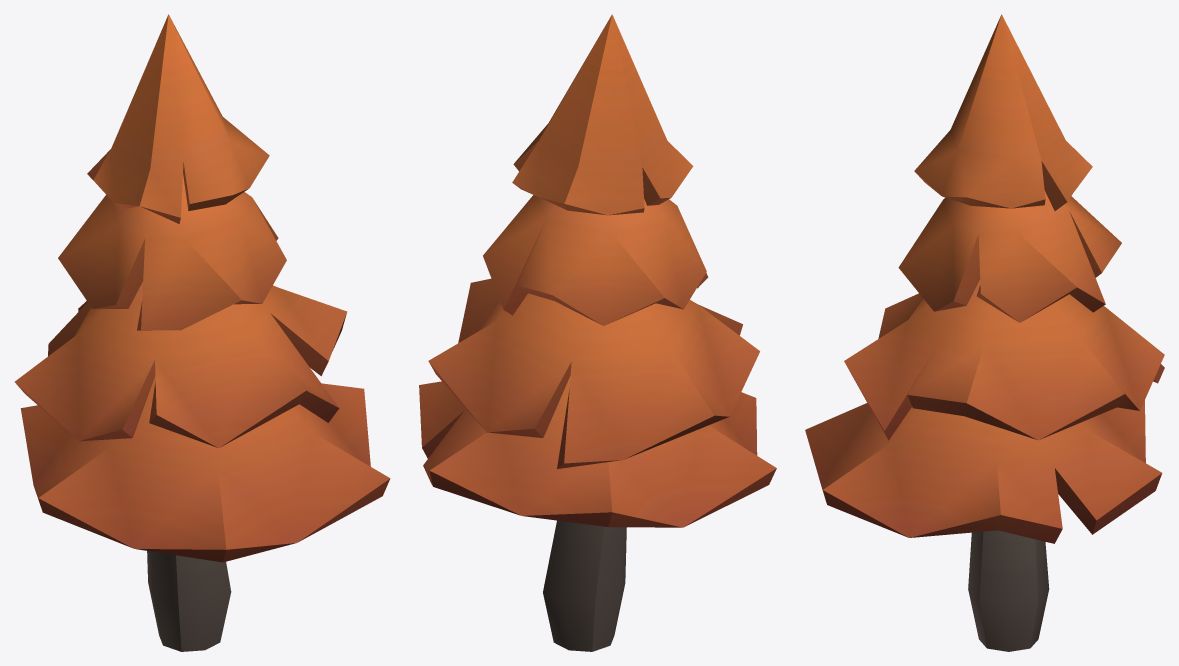
File: tree_pine_orange_medium.glb
3 renders of one model, left to right at view 1: azimuth 30°, elevation 25°; view 2: azimuth 150°, elevation 25°; view 3: azimuth 270°, elevation 25°, orthographic. The views are drawn at different scales.
Visible parts, largest first — view 1: tree_pine_orange_medium; view 2: tree_pine_orange_medium; view 3: tree_pine_orange_medium.
Part boxes in pixels (<box>): tree_pine_orange_medium: <box>14,14,390,651</box>; tree_pine_orange_medium: <box>419,14,776,651</box>; tree_pine_orange_medium: <box>805,14,1164,651</box>.
Bounding box in the file's own units: 3.33 × 5.87 × 3.12.
1 material, 1 textured.
